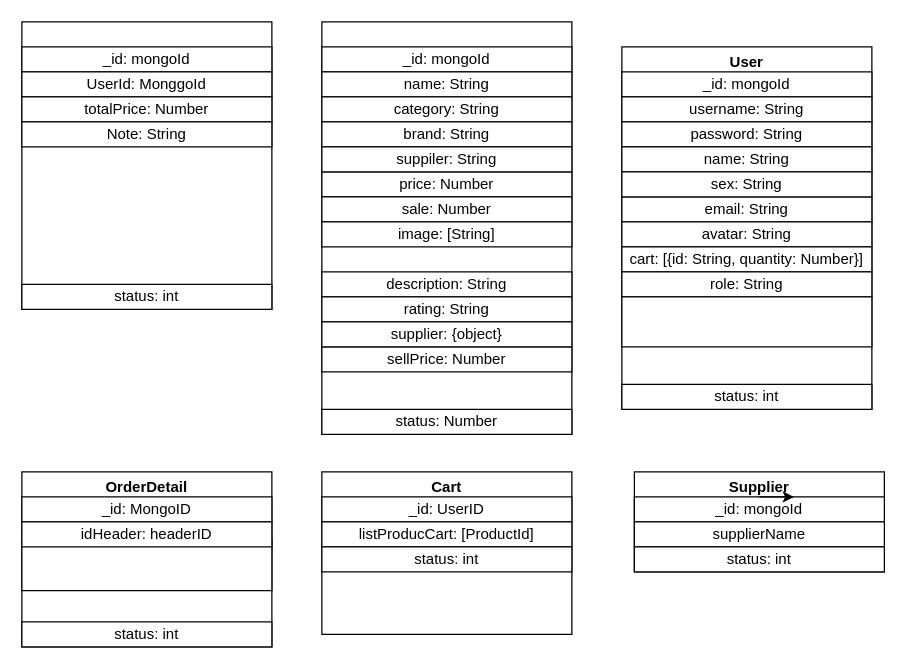
Image size: 906x669. Some labels were removed from this diagram. The box of each missing label's shape, as (x1, y1, x2, y2) in pixels:
addressList: [{name: String, phone: String, address: String}]: (621, 296, 872, 347)
listProducCart: [{Product,orderQtt,totalPrice }]: (21, 539, 272, 591)
OrderHeader: (21, 21, 272, 309)
Product: (321, 21, 572, 434)
